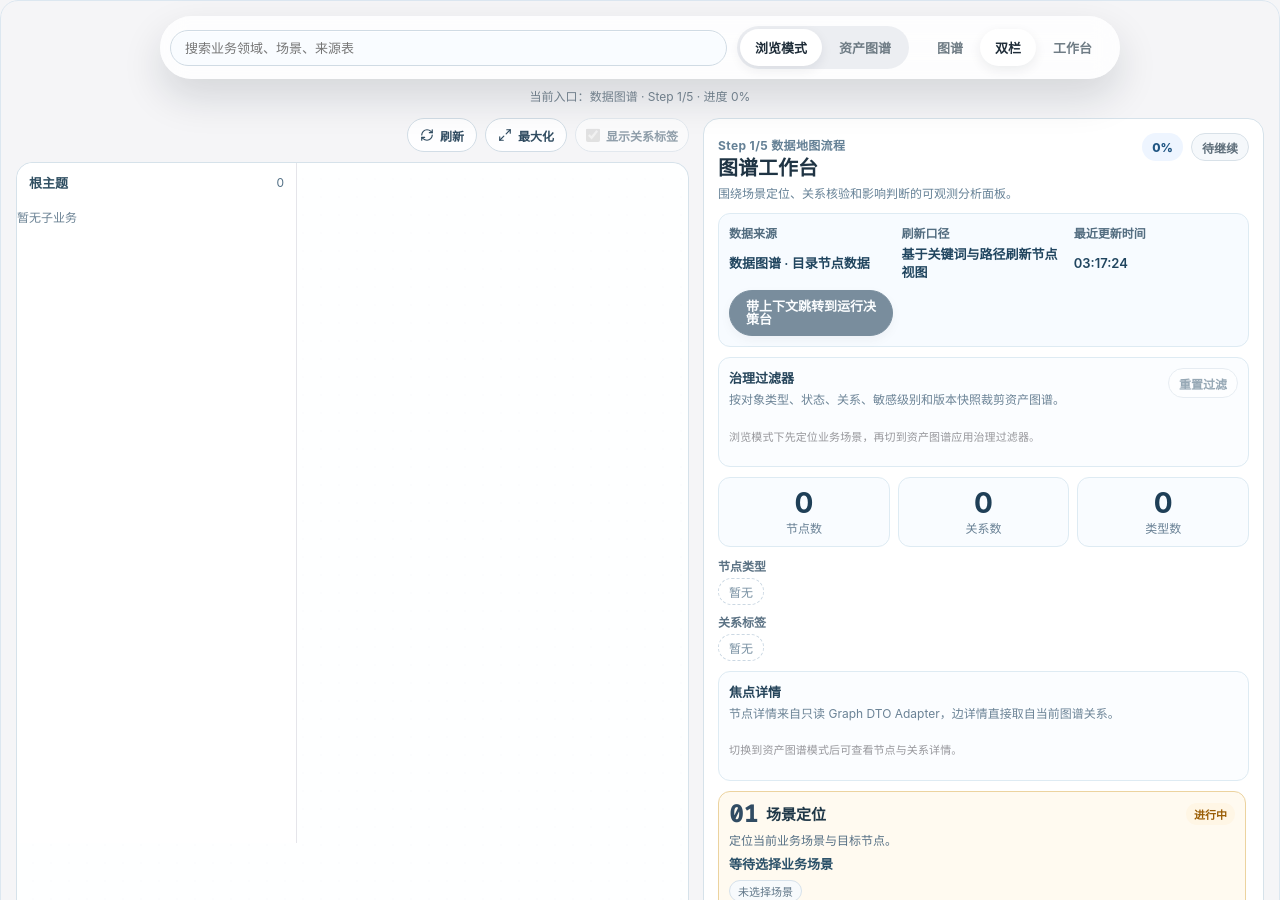
Scenario: DataMapContainer scene switch regression › keeps coverage filter state after browse ↔ lineage mode switching
This screenshot has width=1280, height=900.
Click the button "资产图谱". click: point(865, 48)
box: [824,29,906,66]
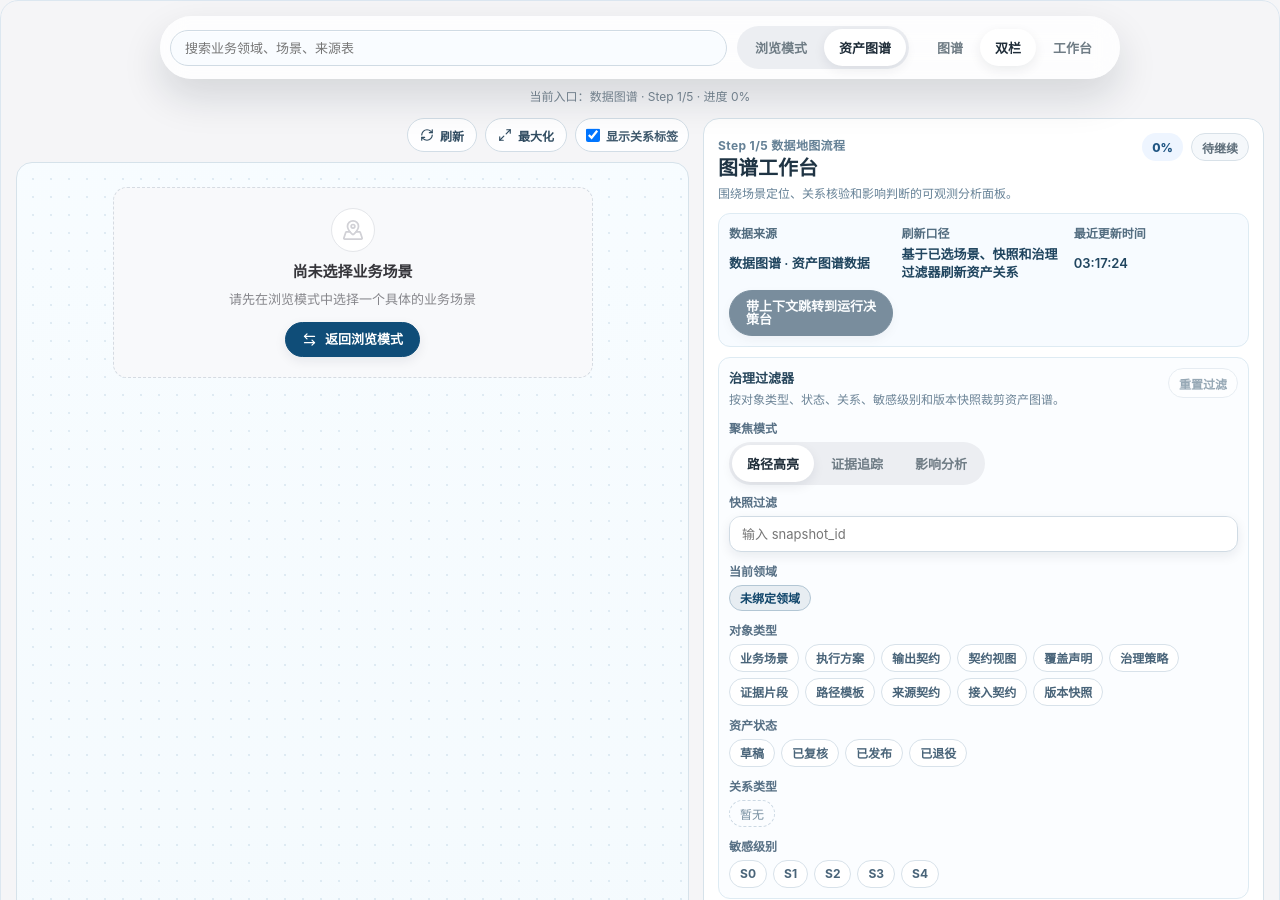
Type "2026032901" into the field with placeholder "输入 snapshot_id". click: point(984, 534)
box: [730,517,1237,551]
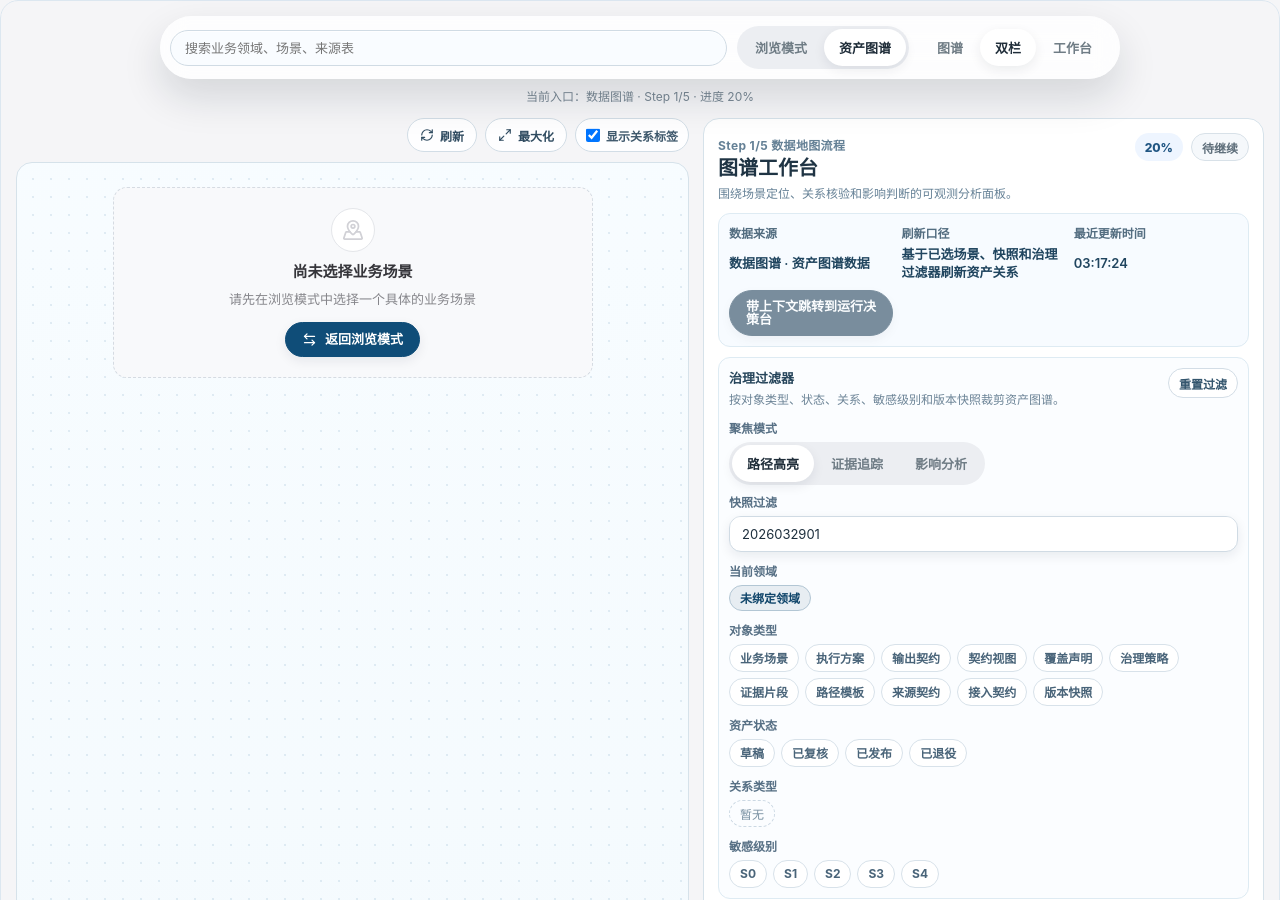
Click the button "执行方案". click: point(840, 658)
box: [805,644,875,672]
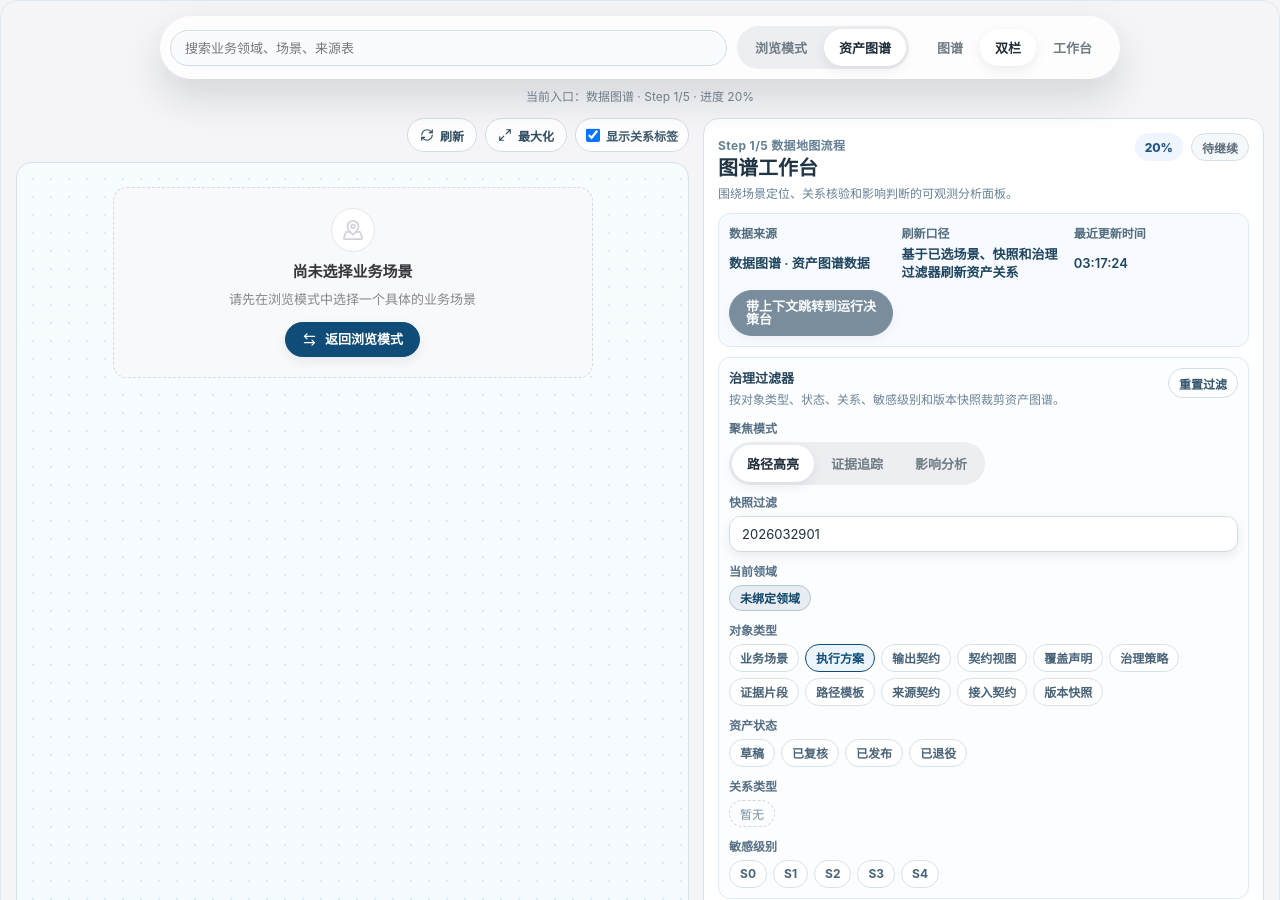
Check: the button "执行方案" has class "is-active", box [805,644,875,672]
Click the button "浏览模式". click: point(781, 48)
box: [740,29,822,66]
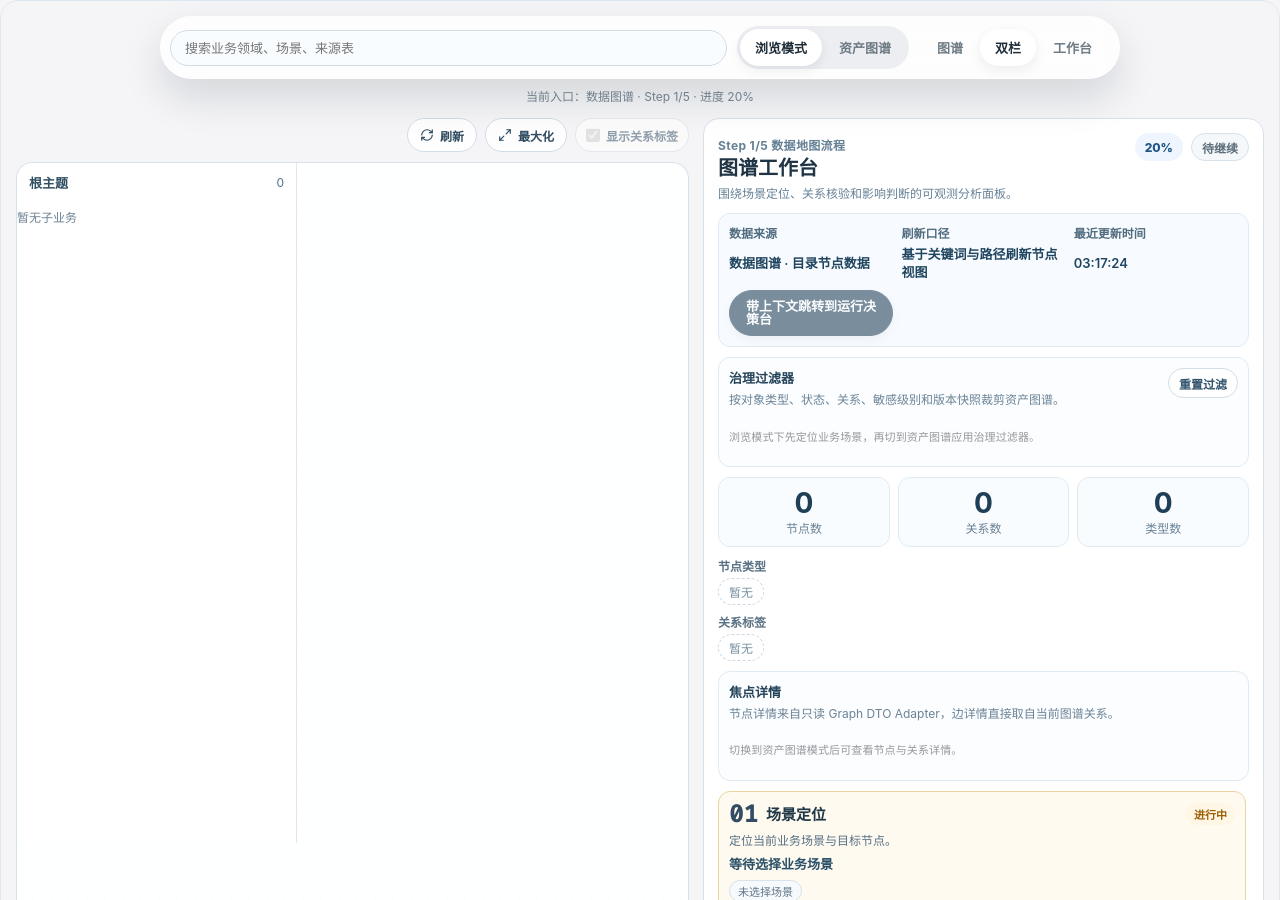
Click the button "资产图谱". click: point(865, 48)
box: [824,29,906,66]
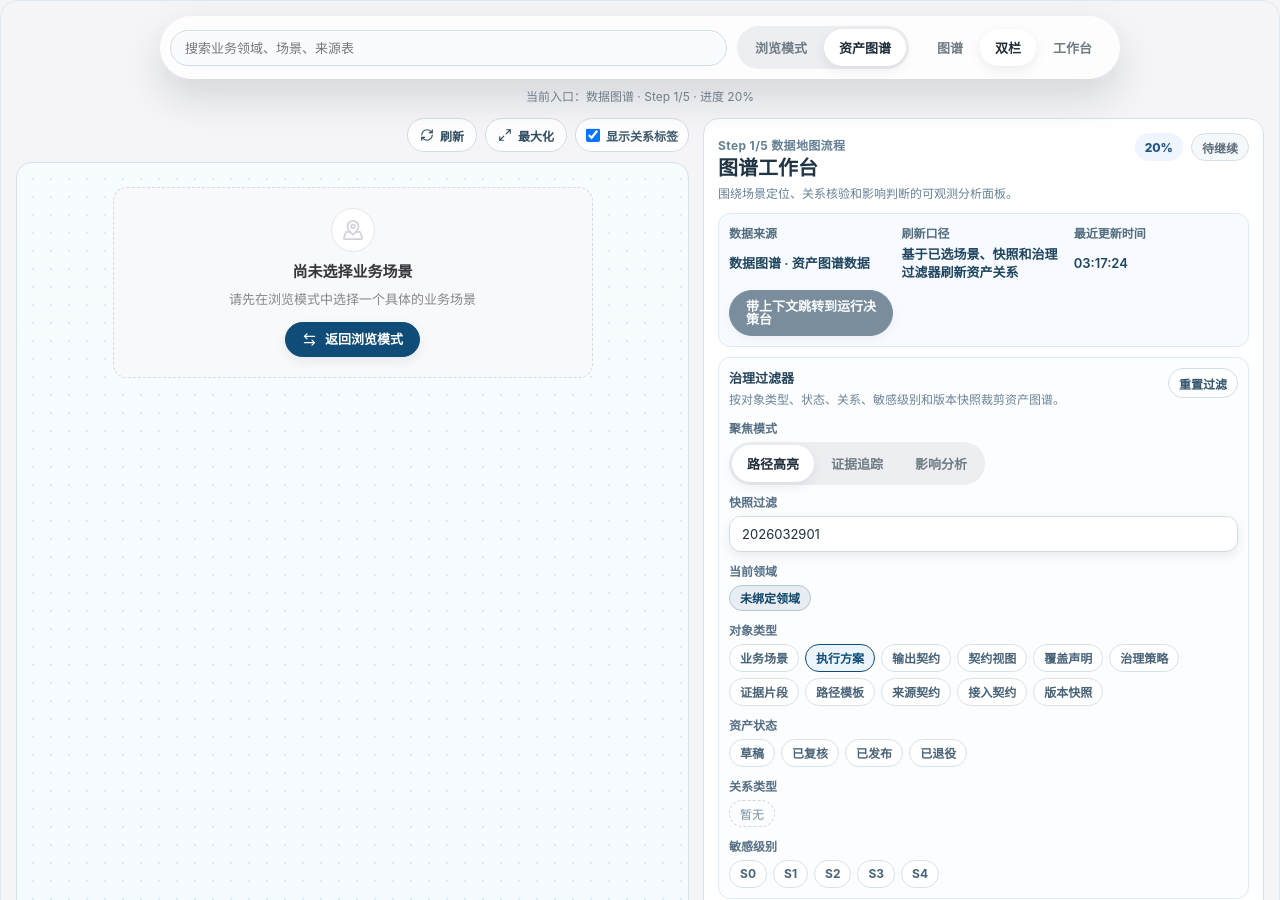
Check: the field with placeholder "输入 snapshot_id" holds "2026032901", box [730,517,1237,551]
